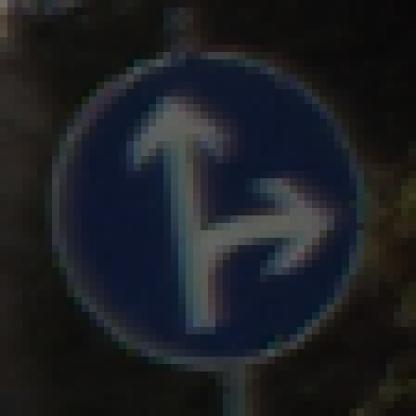Straight or Right: (38, 38, 380, 380)
